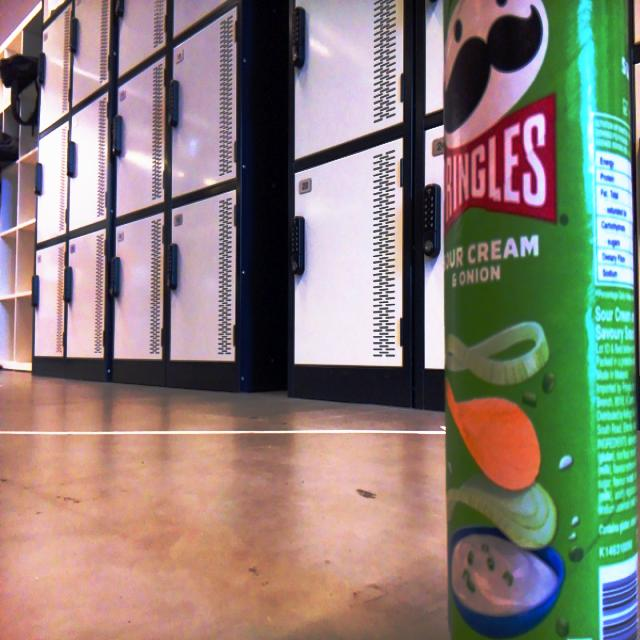greenpringles: (422, 1, 640, 640)
